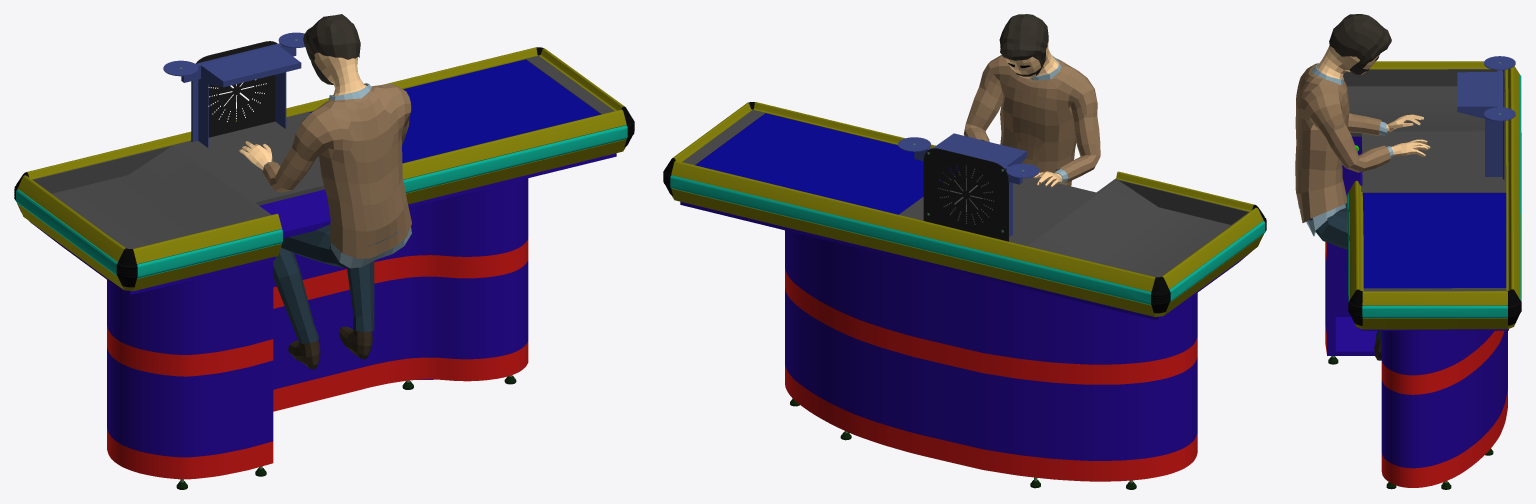
File: CajeroMale.fbx
3 renders of one model, left to right at view 1: azimuth 30°, elevation 25°; view 2: azimuth 150°, elevation 25°; view 3: azimuth 270°, elevation 25°, orthographic. The views are drawn at different scales.
Visible parts, largest first — view 1: checkout desk 2, ManCasual5.003, checkout desk 1; view 2: checkout desk 2, ManCasual5.003, checkout desk 1; view 3: checkout desk 2, ManCasual5.003, checkout desk 1.
Boxes of the visible parts, left/top/right/bottom form: checkout desk 2: left=16, top=47, right=627, bottom=479; ManCasual5.003: left=239, top=14, right=411, bottom=369; checkout desk 1: left=14, top=32, right=634, bottom=489; checkout desk 2: left=670, top=102, right=1265, bottom=481; ManCasual5.003: left=964, top=14, right=1100, bottom=187; checkout desk 1: left=663, top=102, right=1266, bottom=489; checkout desk 2: left=1325, top=61, right=1521, bottom=487; ManCasual5.003: left=1295, top=14, right=1430, bottom=360; checkout desk 1: left=1328, top=56, right=1521, bottom=489.
Size of the model in its own units: 220 by 166 by 88.54.
